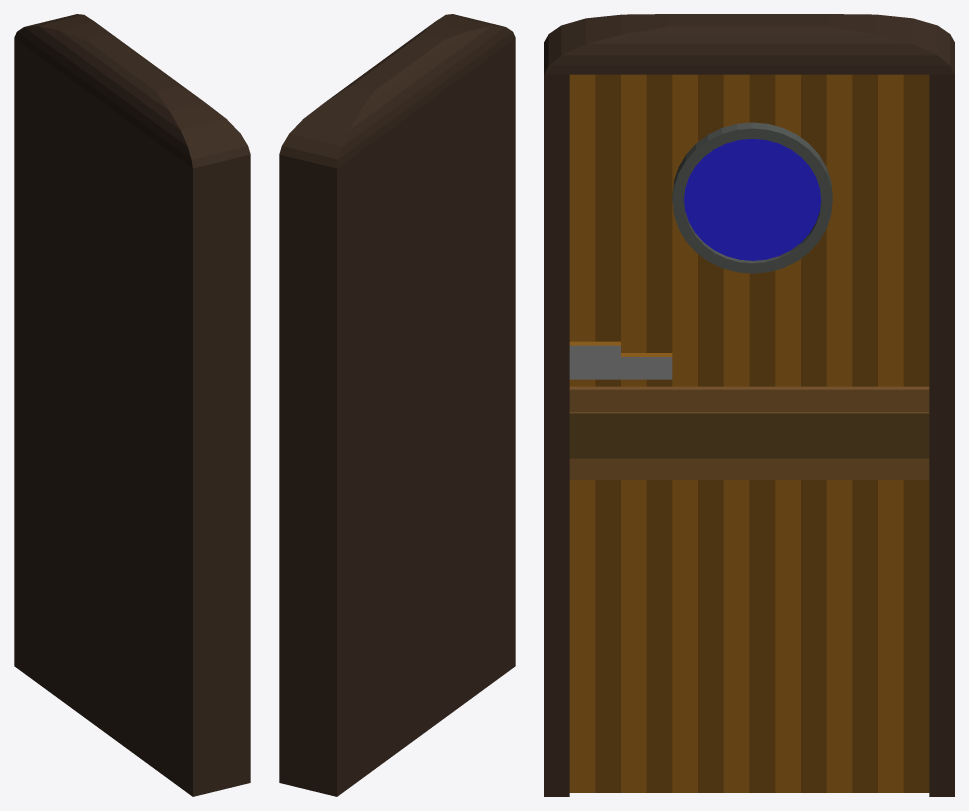
File: Porta.fbx
3 renders of one model, left to right at view 1: azimuth 30°, elevation 25°; view 2: azimuth 150°, elevation 25°; view 3: azimuth 270°, elevation 25°, orthographic. The views are drawn at different scales.
Visible parts, largest first — view 1: Cube; view 2: Cube; view 3: Cube, Circle.
Part boxes in pixels (x1,y1,x2,y2): Cube: (14,14,250,796); Cube: (279,14,515,796); Cube: (544,14,954,796); Circle: (672,122,832,273).
Size of the model in its own units: 52.27 by 536 by 262.
